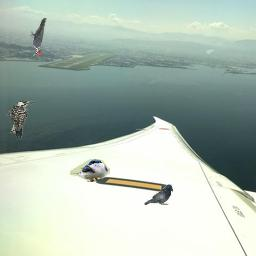Crow: (144, 184, 173, 205)
Swallow: (70, 159, 110, 182)
Woodpecker: (5, 100, 34, 140), (30, 18, 47, 58)
